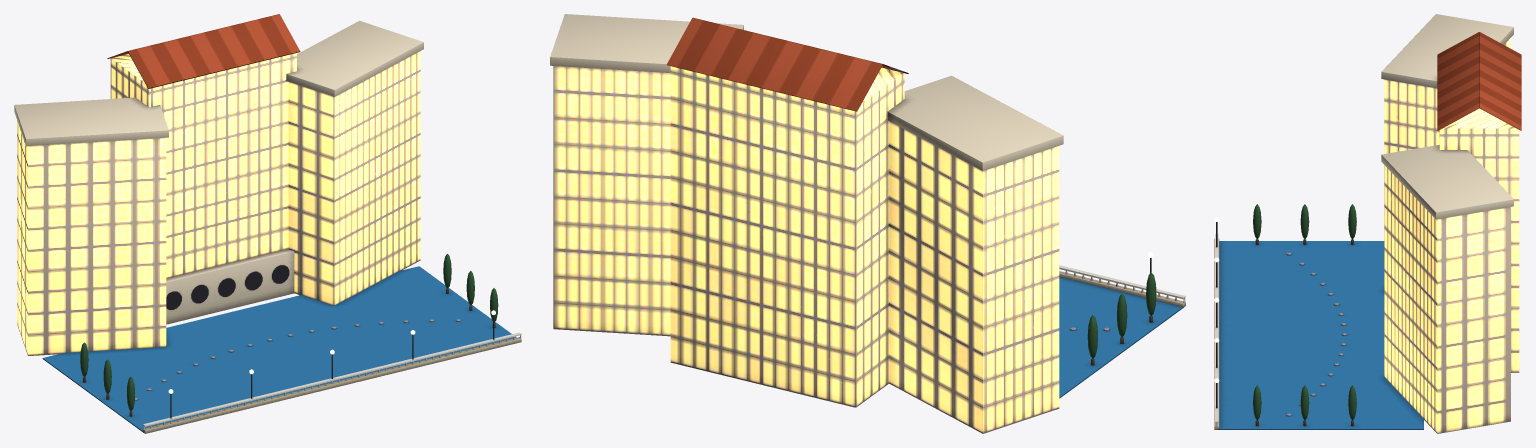
File: fuentes.glb
3 renders of one model, left to right at view 1: azimuth 30°, elevation 25°; view 2: azimuth 150°, elevation 25°; view 3: azimuth 270°, elevation 25°, orthographic. The views are drawn at different scales.
Parts seen in each view (by area): view 1: fuentes; view 2: fuentes; view 3: fuentes.
Boxes of the visible parts, x1,y1,x2,y2 form: fuentes: (14, 14, 521, 433); fuentes: (550, 14, 1185, 433); fuentes: (1214, 14, 1521, 433).
Bounding box in the file's own units: 59.19 × 37.04 × 38.74.
1 material, 1 textured.
